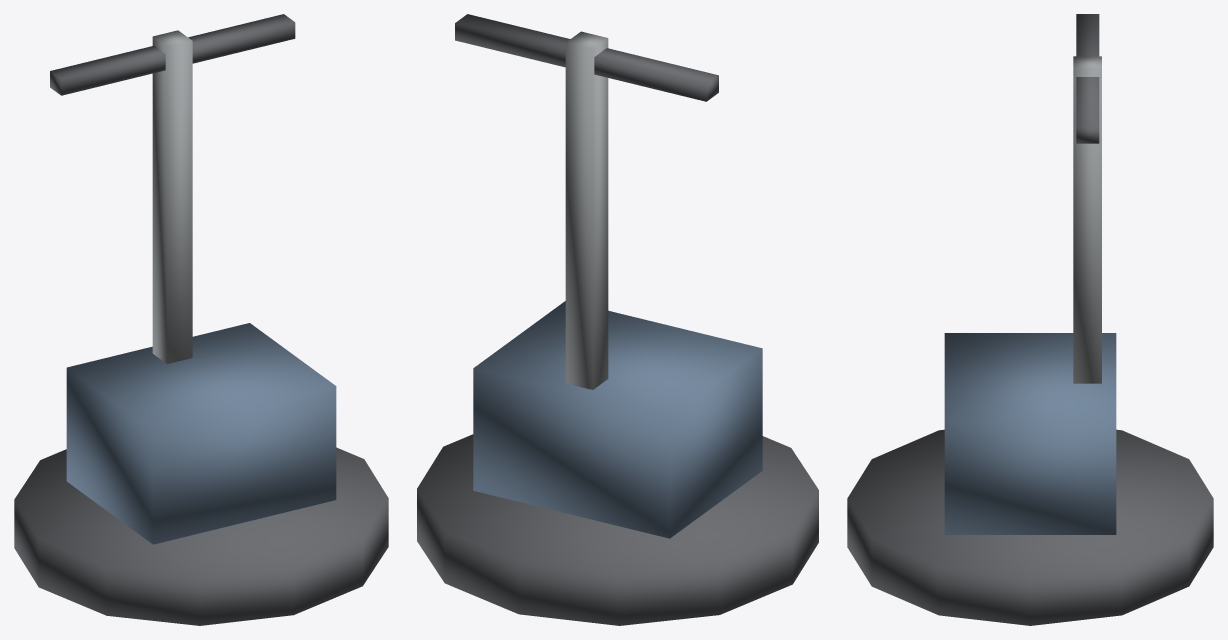
File: floor_buffer__squat.glb
3 views of the same model, side by side, from view 1: azimuth 30°, elevation 25°; view 2: azimuth 150°, elevation 25°; view 3: azimuth 270°, elevation 25° (orthographic). The views are drawn at different scales.
Parts seen in each view (by area): view 1: world; view 2: world; view 3: world.
Part boxes in pixels (x1,y1,x2,y2): world: [14, 14, 388, 625]; world: [417, 14, 818, 625]; world: [847, 14, 1213, 625].
Bounding box in the file's own units: 0.704 × 1.01 × 0.6912.
